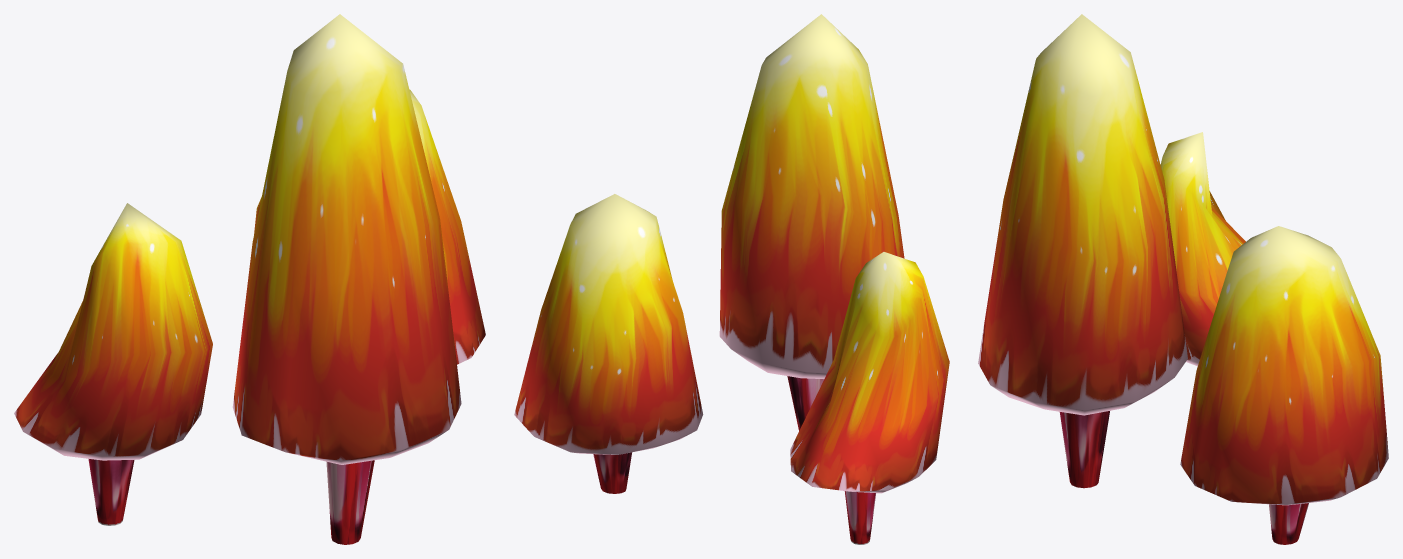
The model's file is SM_ENV_graveyard_shroom_09.fbx.
3 renders of one model, left to right at view 1: azimuth 30°, elevation 25°; view 2: azimuth 150°, elevation 25°; view 3: azimuth 270°, elevation 25°, orthographic. The views are drawn at different scales.
Parts seen in each view (by area): view 1: SM_ENV_graveyard_shroom_09; view 2: SM_ENV_graveyard_shroom_09; view 3: SM_ENV_graveyard_shroom_09.
Part boxes in pixels (x1=…): SM_ENV_graveyard_shroom_09: x1=14, y1=14, x2=485, y2=544; SM_ENV_graveyard_shroom_09: x1=514, y1=14, x2=949, y2=544; SM_ENV_graveyard_shroom_09: x1=978, y1=14, x2=1388, y2=544.
Size of the model in its own units: 34.6 by 38.9 by 30.32.
